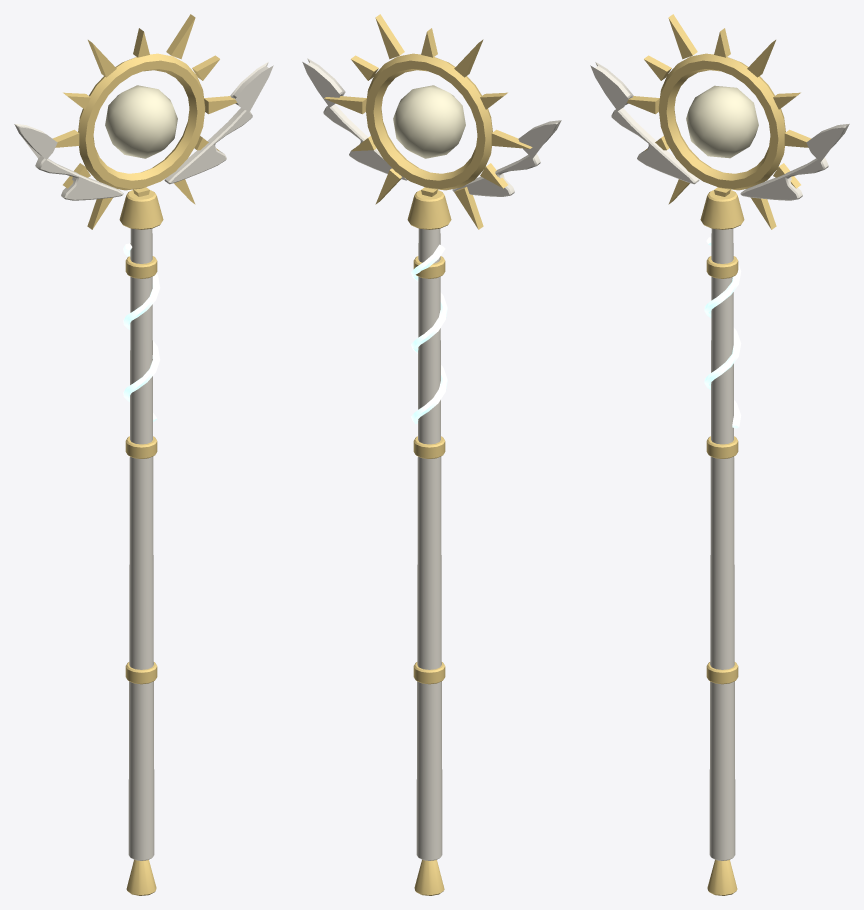
Rendered from gen_staff_holy.fbx.
The picture shows the model from 3 angles, left to right: view 1: azimuth 30°, elevation 25°; view 2: azimuth 150°, elevation 25°; view 3: azimuth 330°, elevation 25°; orthographic projection.
Visible parts, largest first — view 1: staff_holy; view 2: staff_holy; view 3: staff_holy.
Boxes of the visible parts, x1,y1,x2,y2 form: staff_holy: [14, 14, 273, 895]; staff_holy: [302, 14, 561, 895]; staff_holy: [590, 14, 849, 895].
Bounding box in the file's own units: 0.5914 × 1.91 × 0.15.
